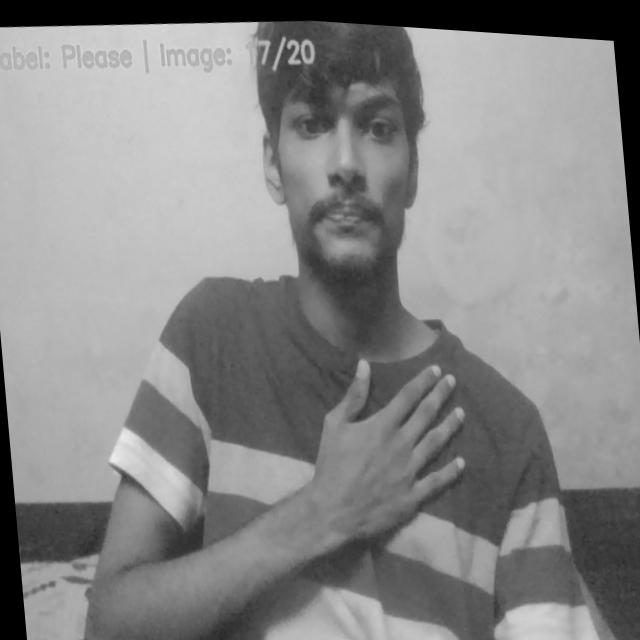Please: (291, 339, 476, 558)
